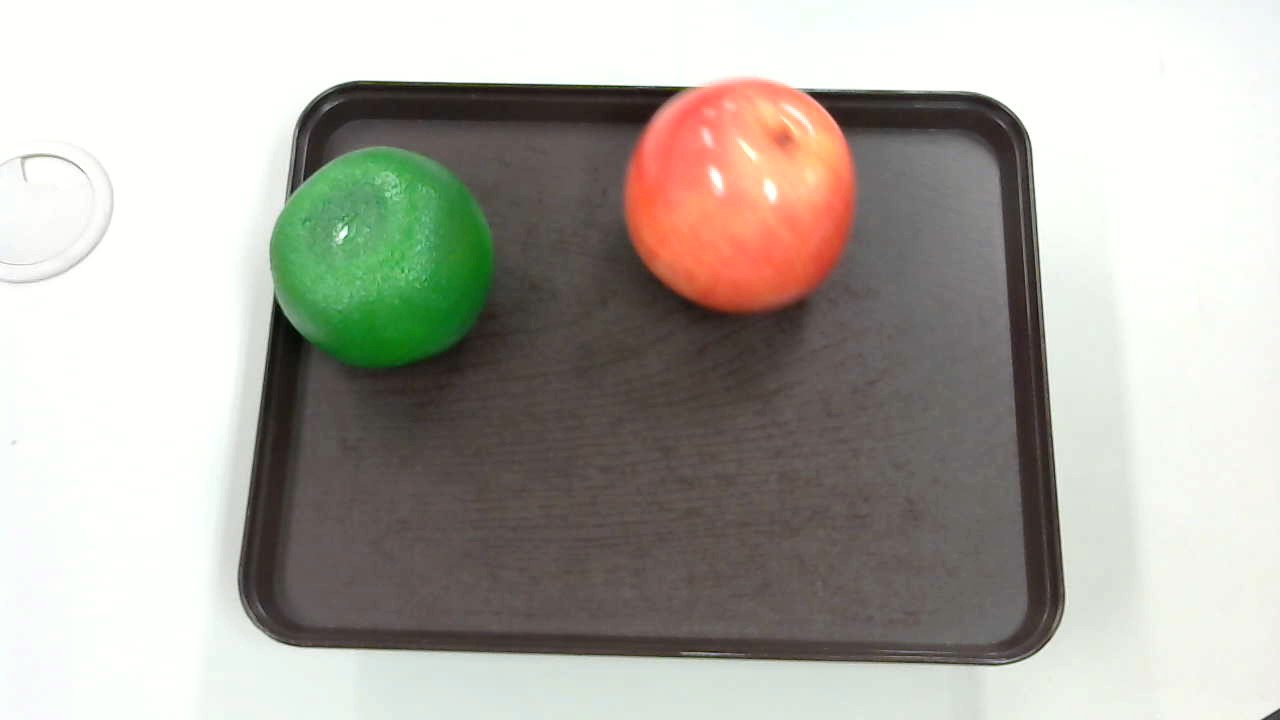green orange: (259, 146, 500, 379)
